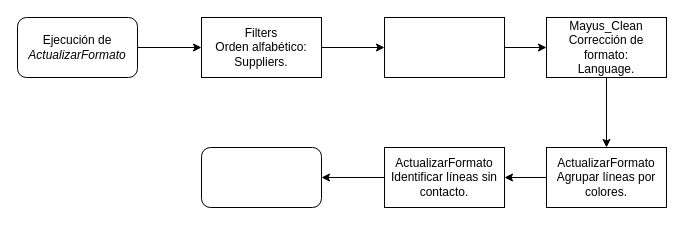
The diagram is 684 pixels wide and 225 high, and some of its shapes have lost their labels. Each missing label, with the centre of its shape:
Final de código: point (261, 177)
Mayus_Clean Corrección de formato: Supplier.: point (444, 47)
